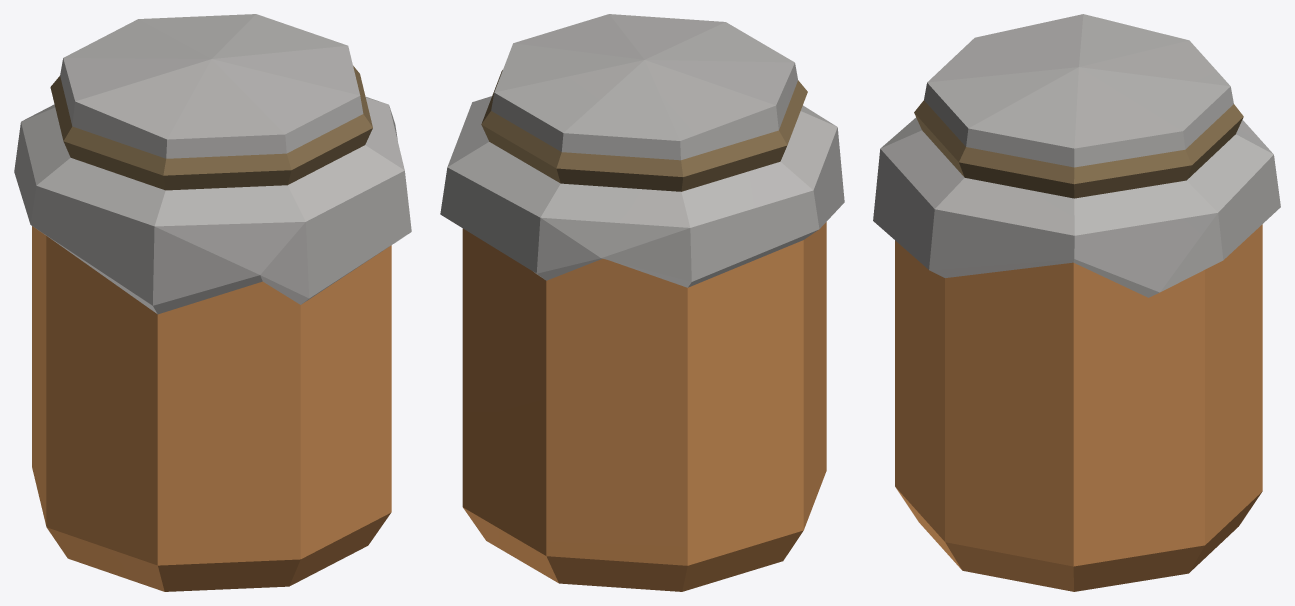
The model's file is kingdom_SM_Item_HoneyJar_01.gltf.
3 views of the same model, side by side, from view 1: azimuth 30°, elevation 25°; view 2: azimuth 150°, elevation 25°; view 3: azimuth 270°, elevation 25° (orthographic). The views are drawn at different scales.
Visible parts, largest first — view 1: SM_Item_HoneyJar_01; view 2: SM_Item_HoneyJar_01; view 3: SM_Item_HoneyJar_01.
Part boxes in pixels (x1,y1,x2,y2): SM_Item_HoneyJar_01: (14, 14, 411, 591); SM_Item_HoneyJar_01: (440, 14, 844, 591); SM_Item_HoneyJar_01: (873, 14, 1280, 591).
Bounding box in the file's own units: 0.2924 × 0.3627 × 0.2932.
1 material, 1 textured.
